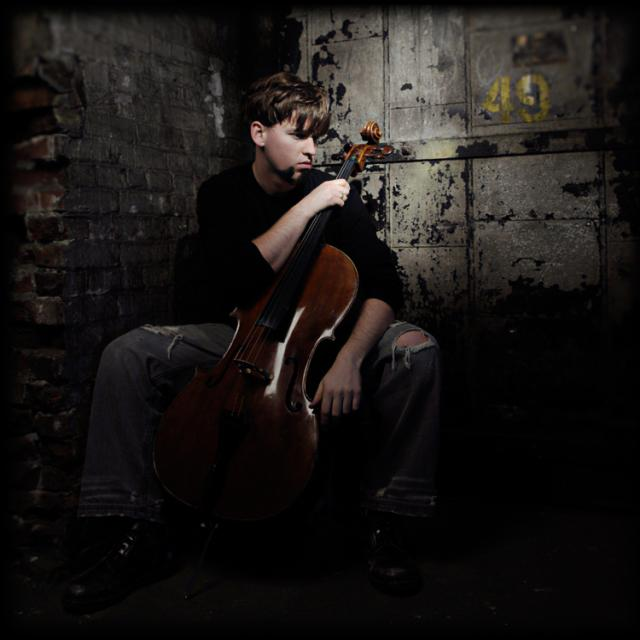cello: (118, 122, 396, 600)
